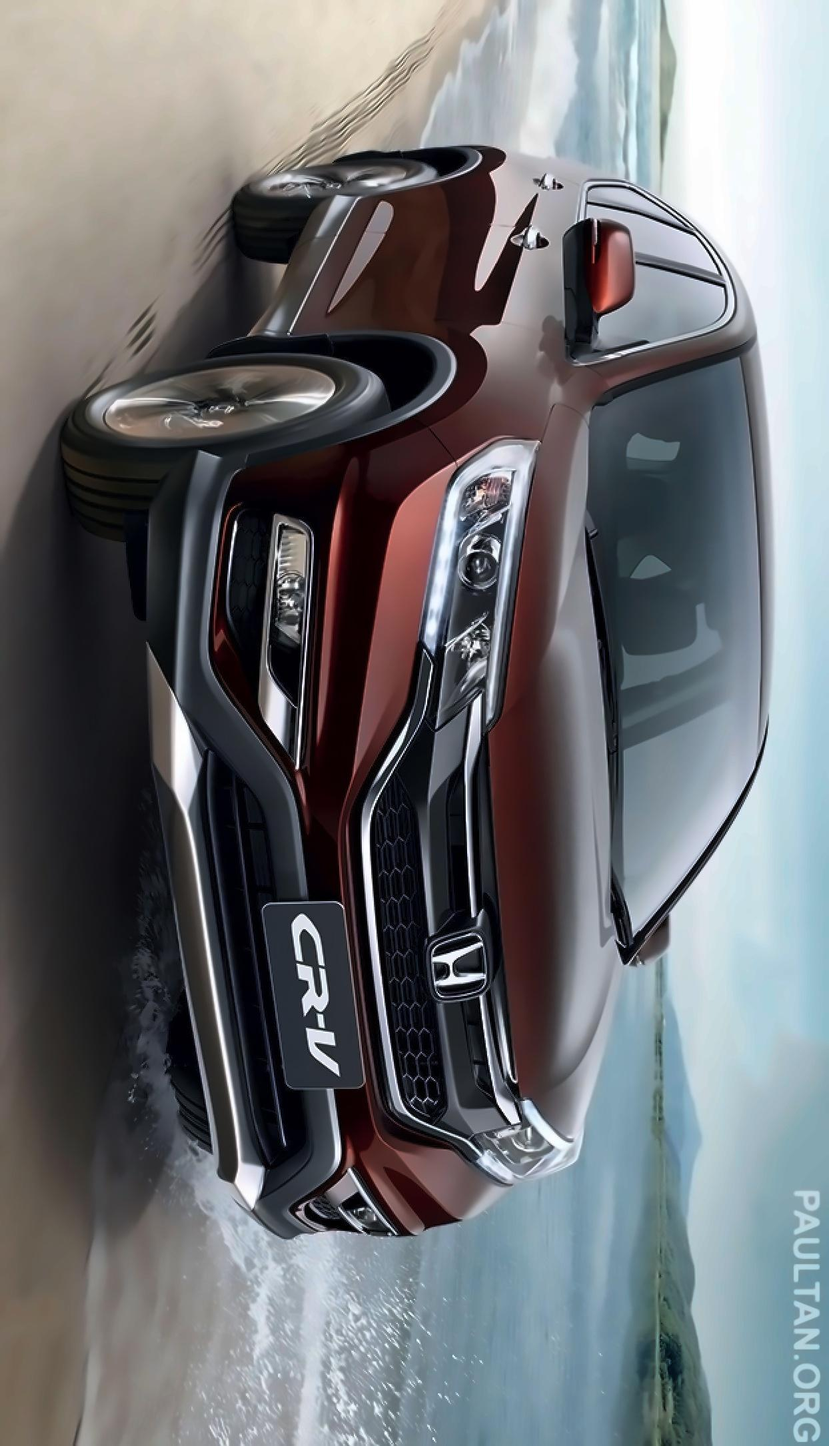Car hood: (489, 405, 630, 1148)
Driver-s door - -F-R-: (282, 227, 756, 385)
Fender - -R-R-: (233, 320, 614, 466)
Front bumper: (134, 440, 441, 1256)
Headlight - -L-: (460, 1079, 590, 1194)
Headlight - -R-: (401, 427, 548, 746)
Passenger-s door - -R-R-: (331, 160, 727, 260)
Side bumper - -R-: (236, 185, 368, 347)
Side mirror - -L-: (616, 889, 681, 976)
Side mirror - -R-: (562, 198, 643, 321)
